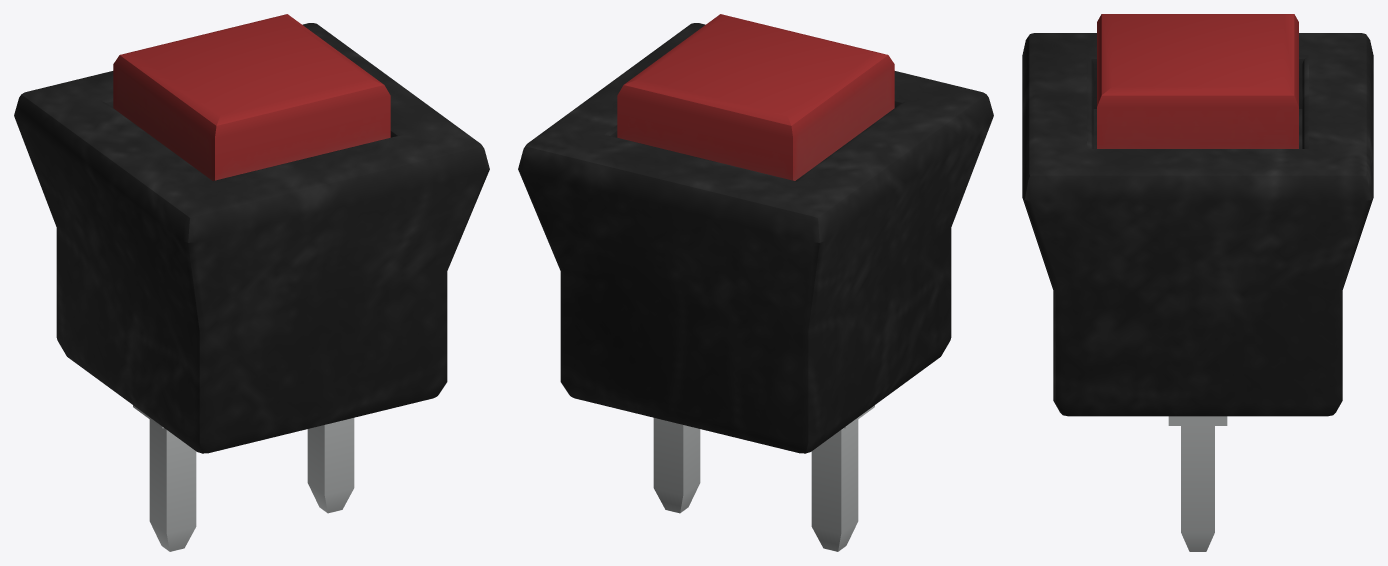
The model's file is Button.fbx.
3 views of the same model, side by side, from view 1: azimuth 30°, elevation 25°; view 2: azimuth 150°, elevation 25°; view 3: azimuth 270°, elevation 25° (orthographic).
Parts seen in each view (by area): view 1: Button.014; view 2: Button.014; view 3: Button.014.
Boxes of the visible parts, x1,y1,x2,y2 form: Button.014: [14, 14, 489, 551]; Button.014: [518, 14, 993, 551]; Button.014: [1022, 14, 1373, 551].
Bounding box in the file's own units: 5.18 × 7.47 × 5.18.
1 material, 1 textured.
